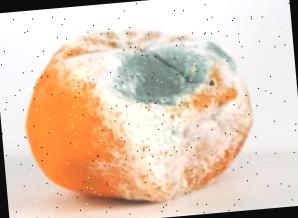Orange Rotten: (15, 9, 273, 218)
